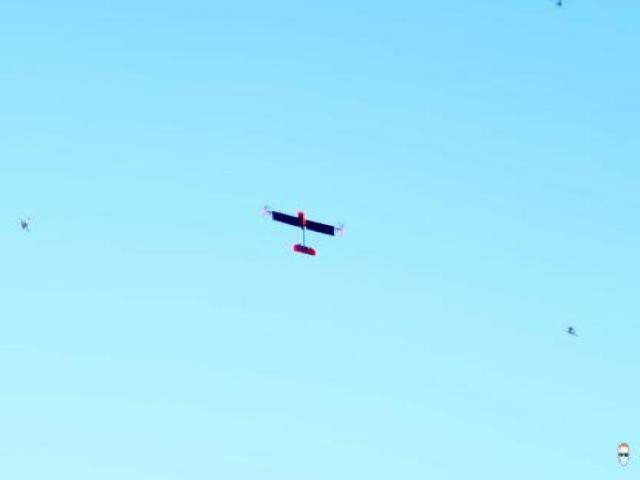uav: (255, 195, 351, 265)
